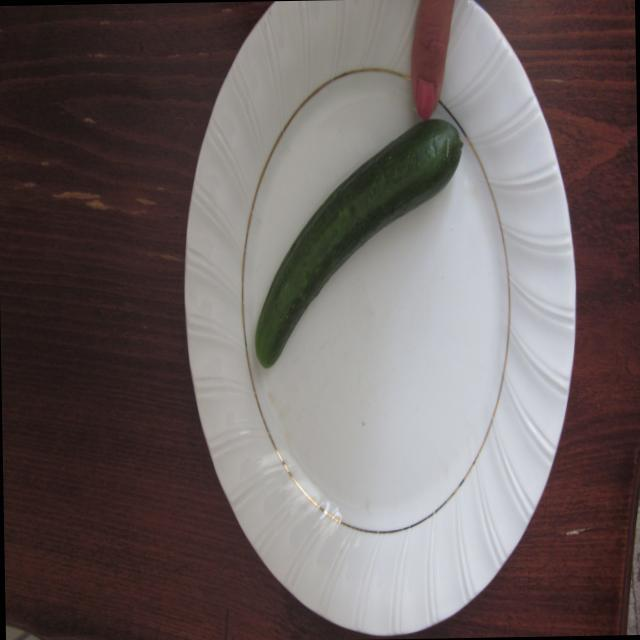Cucumber: (248, 120, 469, 372)
Finger: (404, 0, 452, 119)
